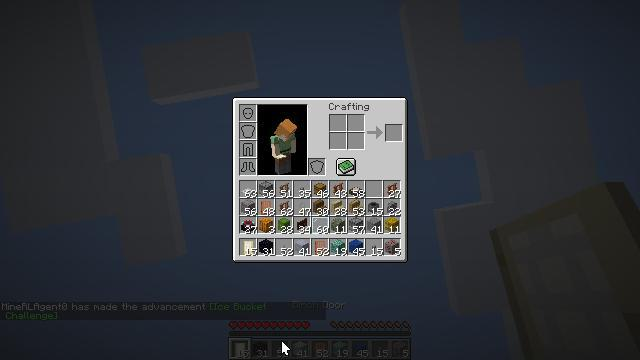cursor: (340, 281, 356, 291)
